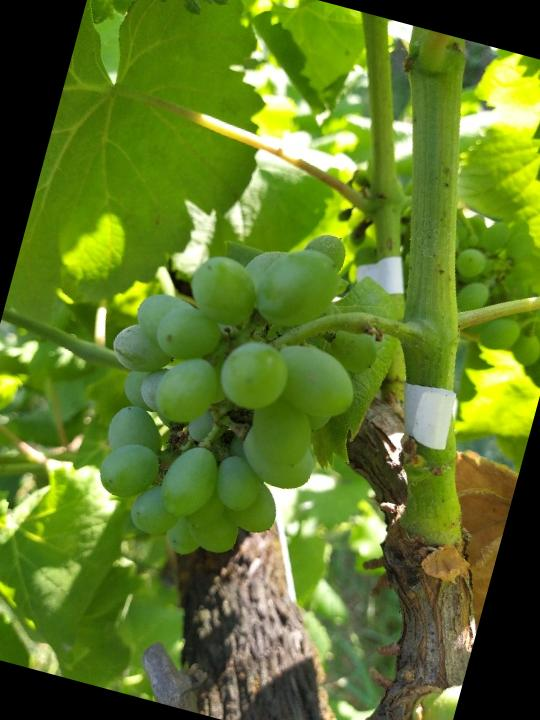grape: (60, 185, 406, 597)
